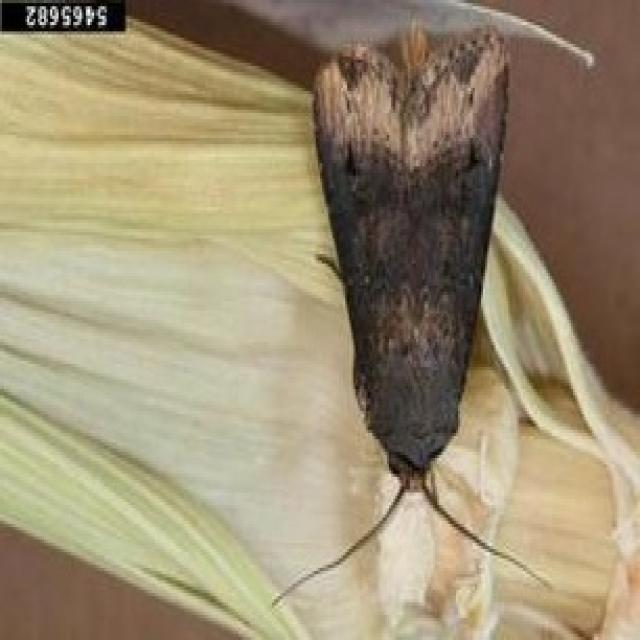black cutworm: (286, 33, 512, 554)
